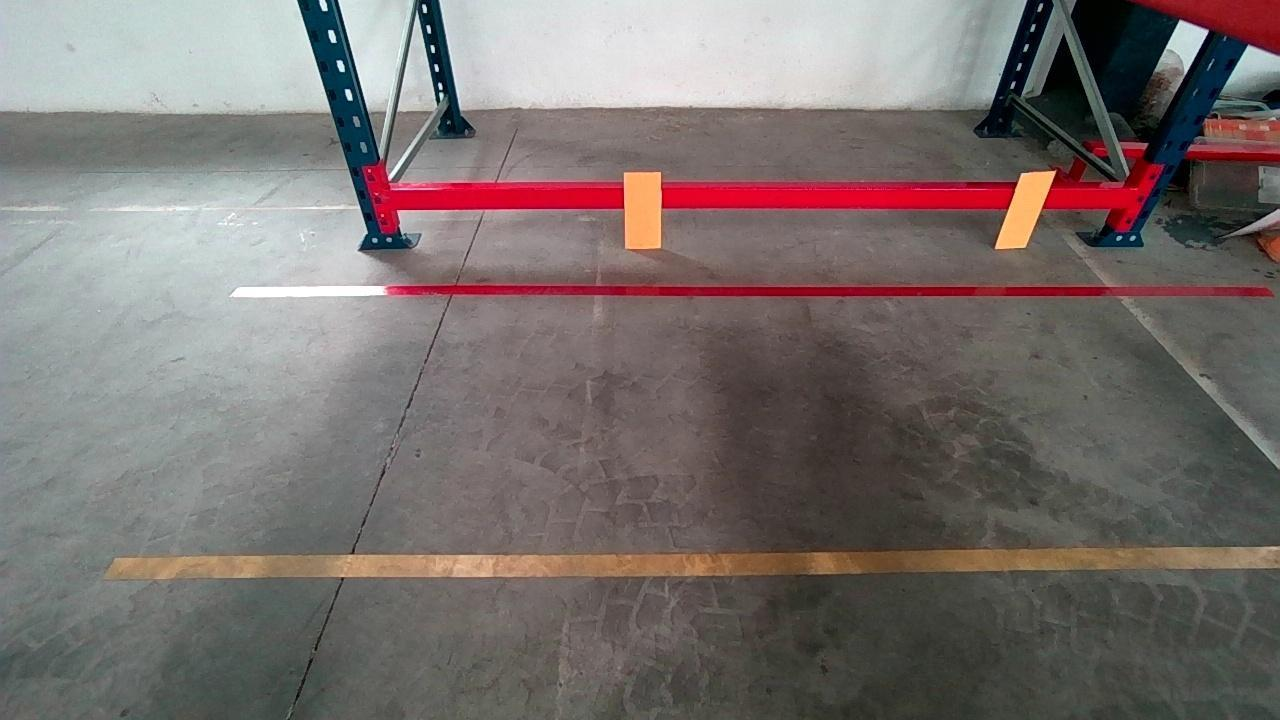h_rack: (389, 186, 1137, 208)
orange_strip: (994, 170, 1059, 246), (625, 171, 662, 247)
red_line: (224, 287, 1272, 298)
yellow_line: (104, 544, 1280, 570)
